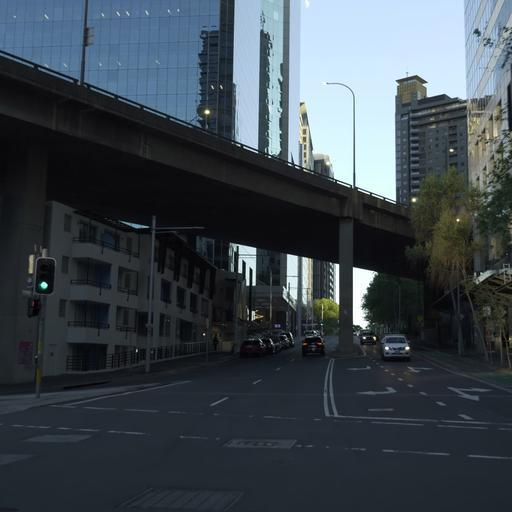Street light: (115, 214, 206, 373), (325, 80, 356, 187), (34, 255, 55, 294), (187, 106, 210, 127), (202, 107, 210, 128)
